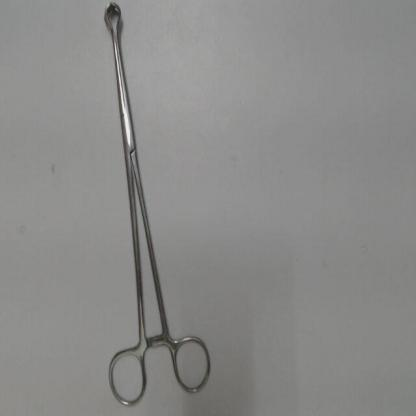8 Babcock Tissue Forceps: (99, 1, 215, 413)
